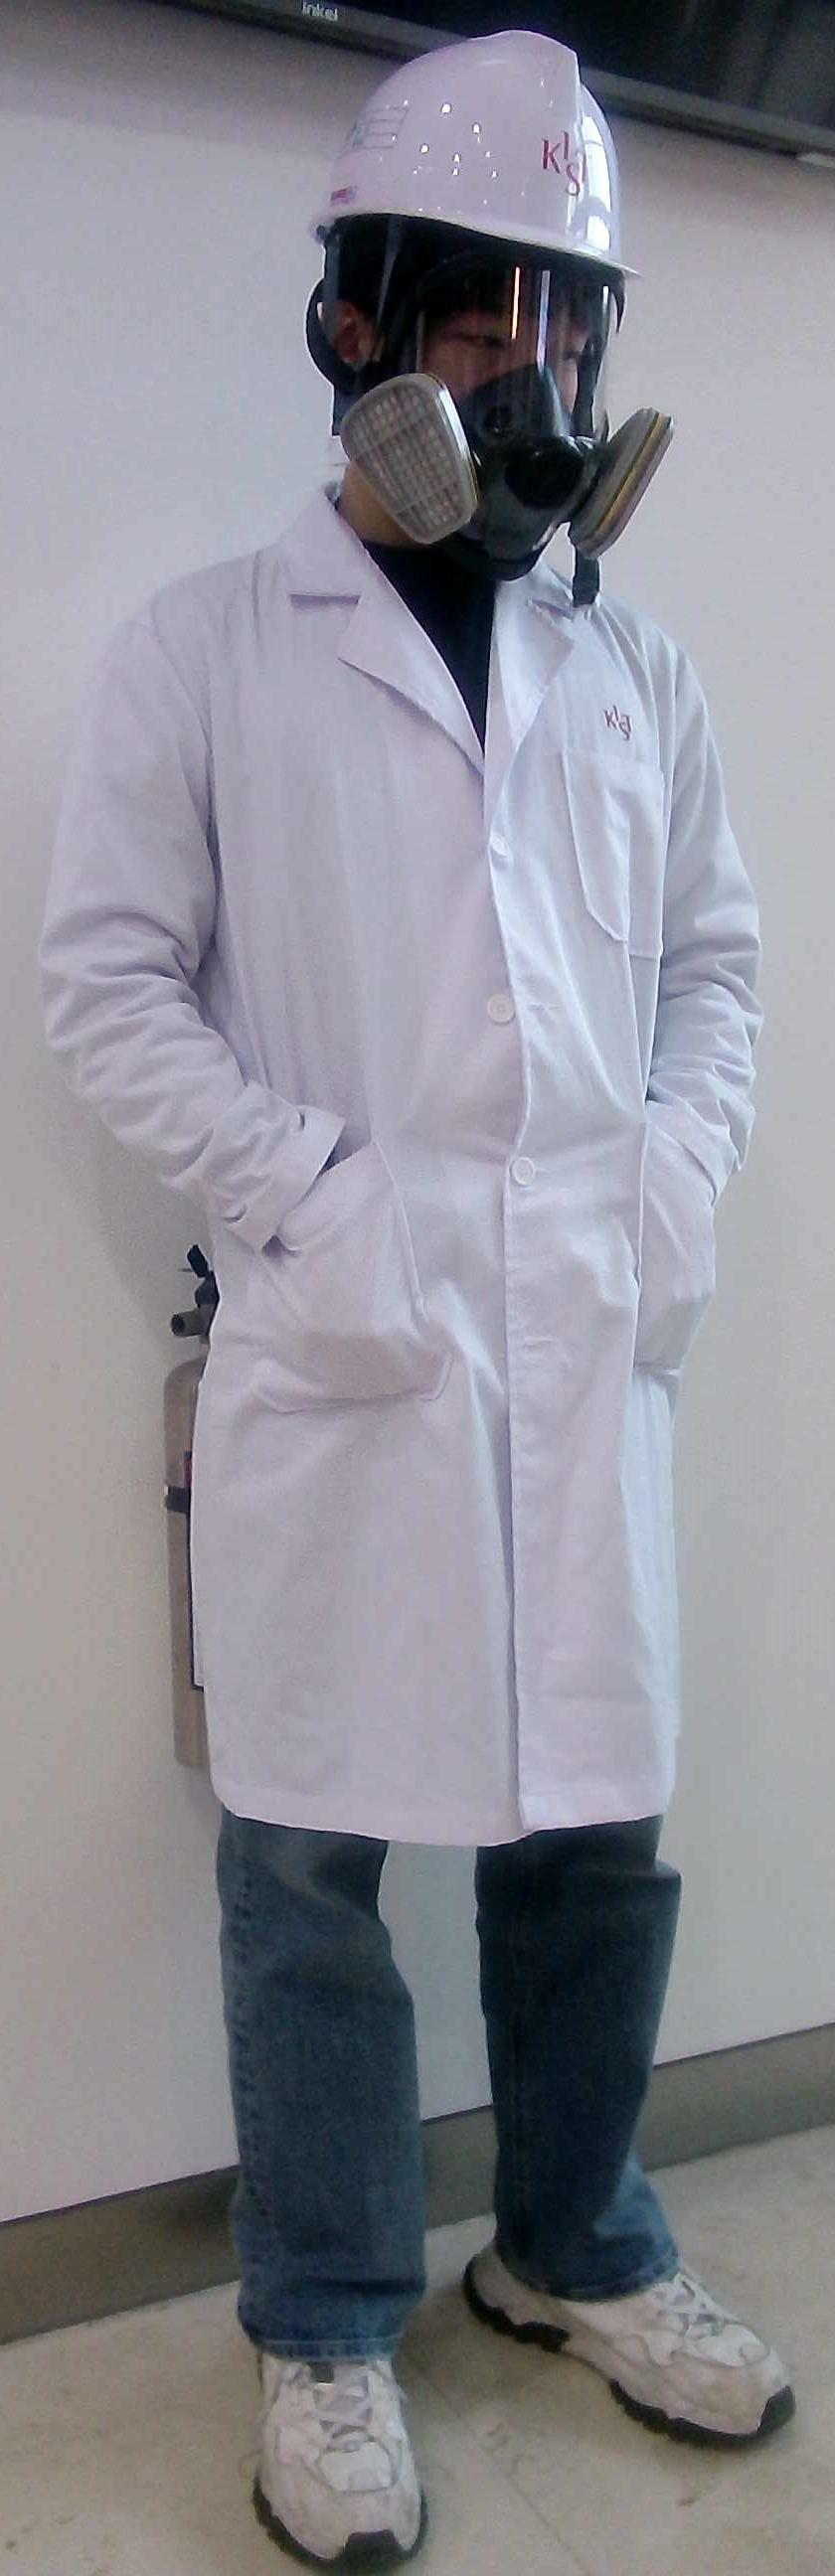lab_coat: (81, 593, 773, 1809)
